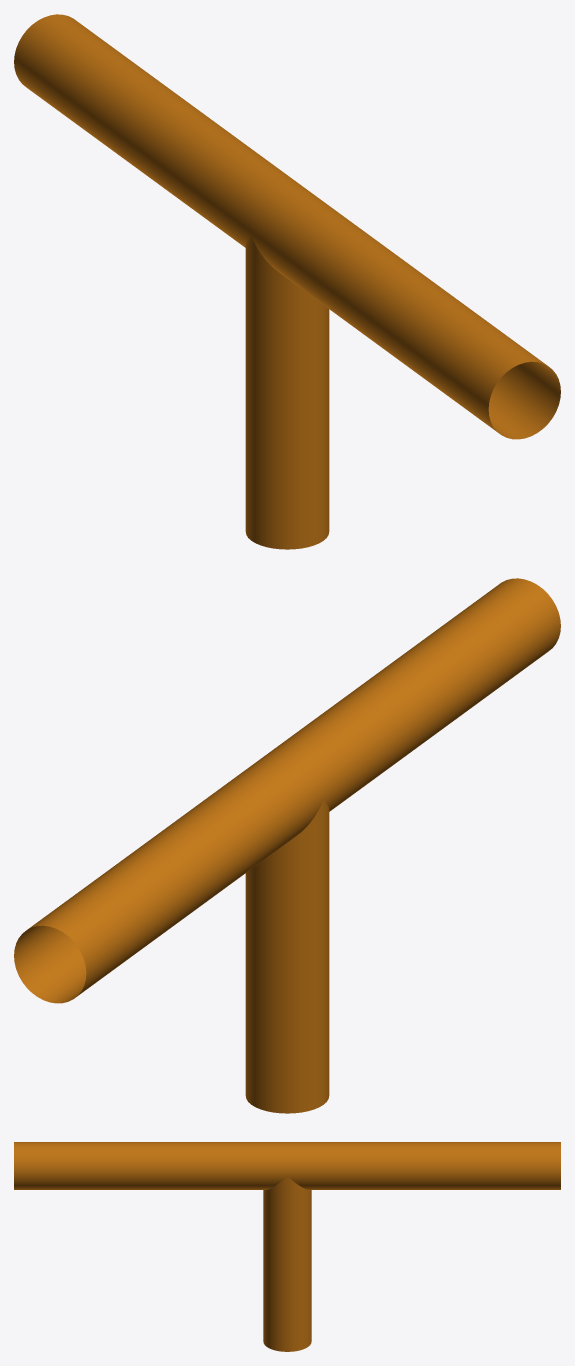
File: Btube3.fbx
3 renders of one model, top to bottom at view 1: azimuth 30°, elevation 25°; view 2: azimuth 150°, elevation 25°; view 3: azimuth 270°, elevation 25°, orthographic. The views are drawn at different scales.
Visible parts, largest first — view 1: Cylinder012, Cylinder013; view 2: Cylinder012, Cylinder013; view 3: Cylinder012, Cylinder013.
Boxes of the visible parts, x1=… form: Cylinder012: x1=14, y1=14, x2=560, y2=439; Cylinder013: x1=245, y1=236, x2=329, y2=549; Cylinder012: x1=14, y1=578, x2=560, y2=1003; Cylinder013: x1=245, y1=800, x2=329, y2=1113; Cylinder012: x1=14, y1=1142, x2=560, y2=1189; Cylinder013: x1=263, y1=1176, x2=311, y2=1351.
Size of the model in its own units: 6.46 by 29.22 by 73.34.
